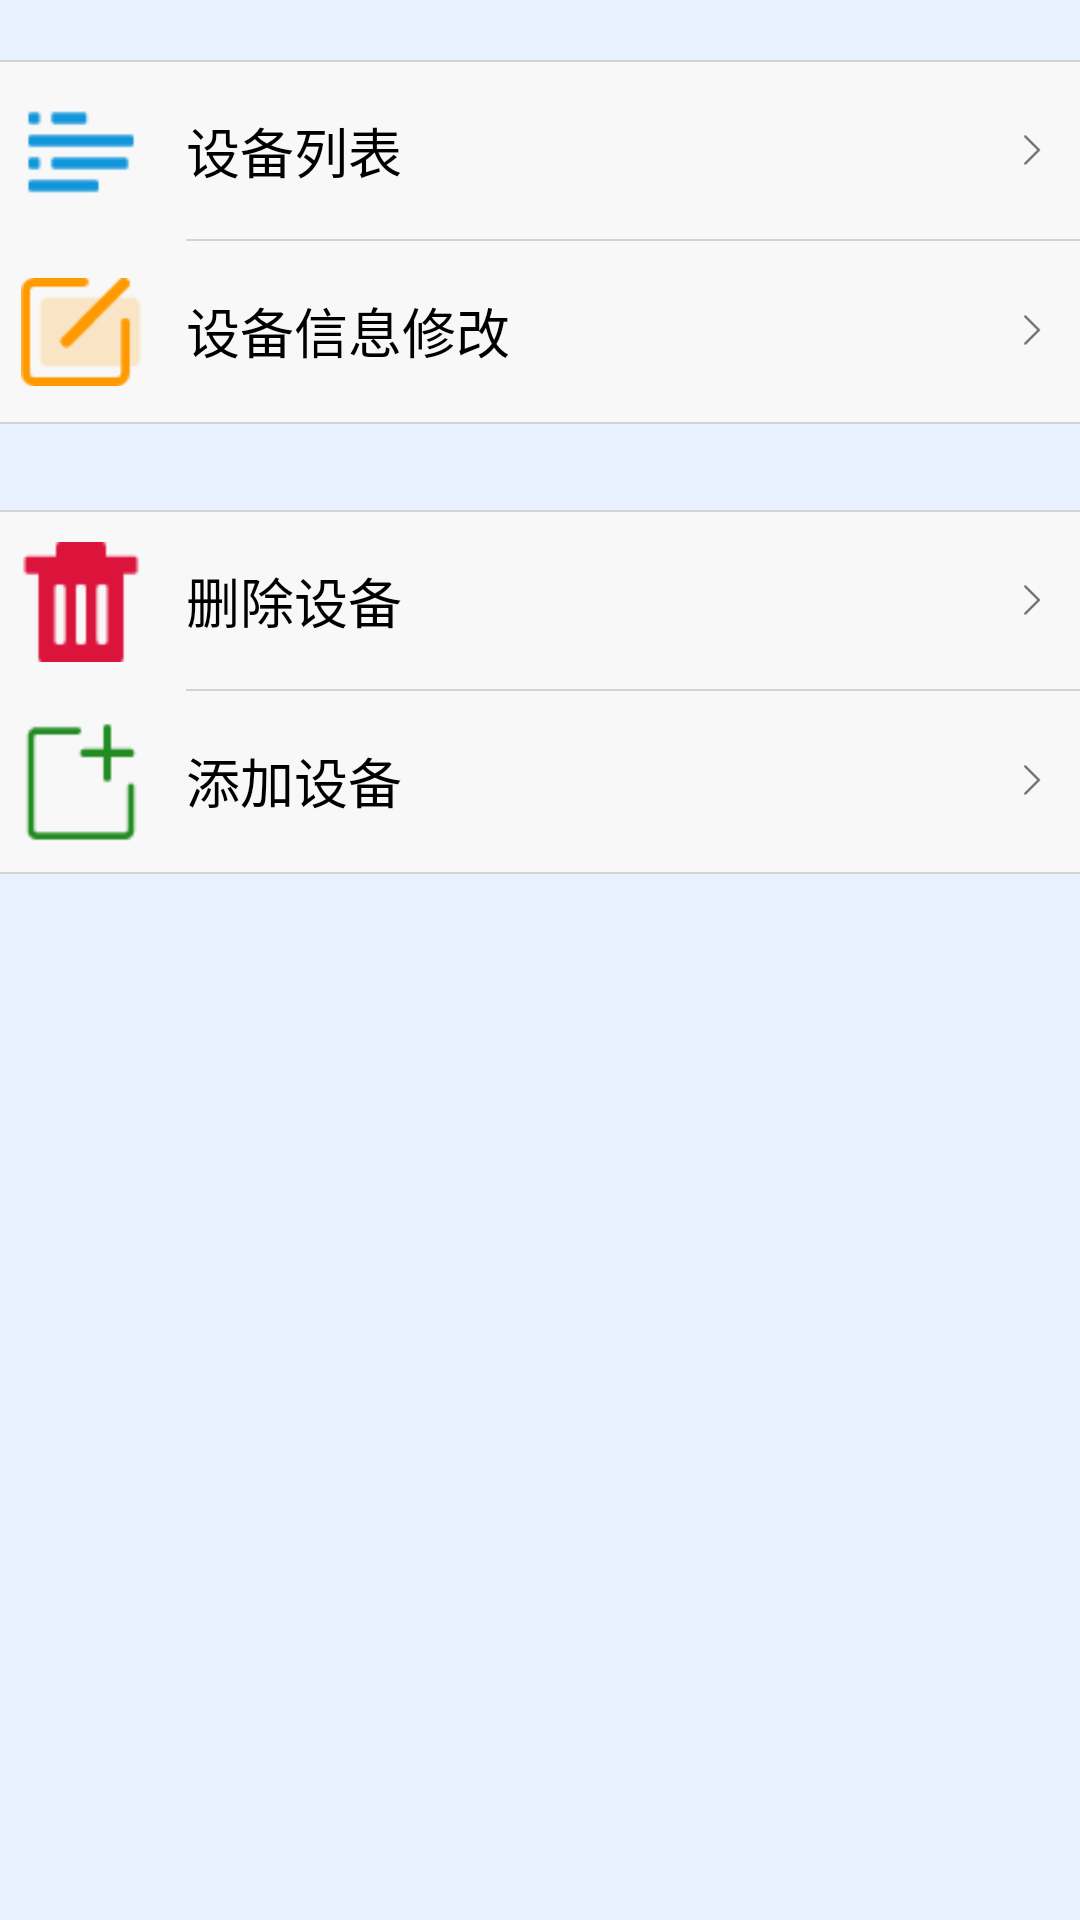

Screen size 1080 × 1920. Icon name, then its box in pixels as (x1, y1, x2, y2):
add device: (26, 724, 136, 840)
delete device: (23, 542, 139, 662)
modify device: (21, 278, 141, 386)
select device: (28, 111, 134, 193)
